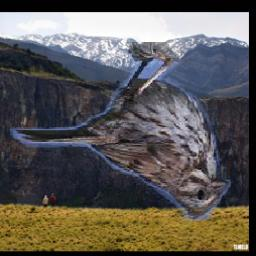Sparrow: (11, 42, 232, 223)
